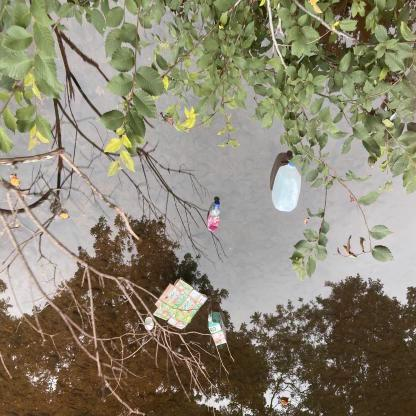Plastic: (270, 157, 304, 214), (206, 198, 223, 234)
Trash: (144, 316, 156, 332)
